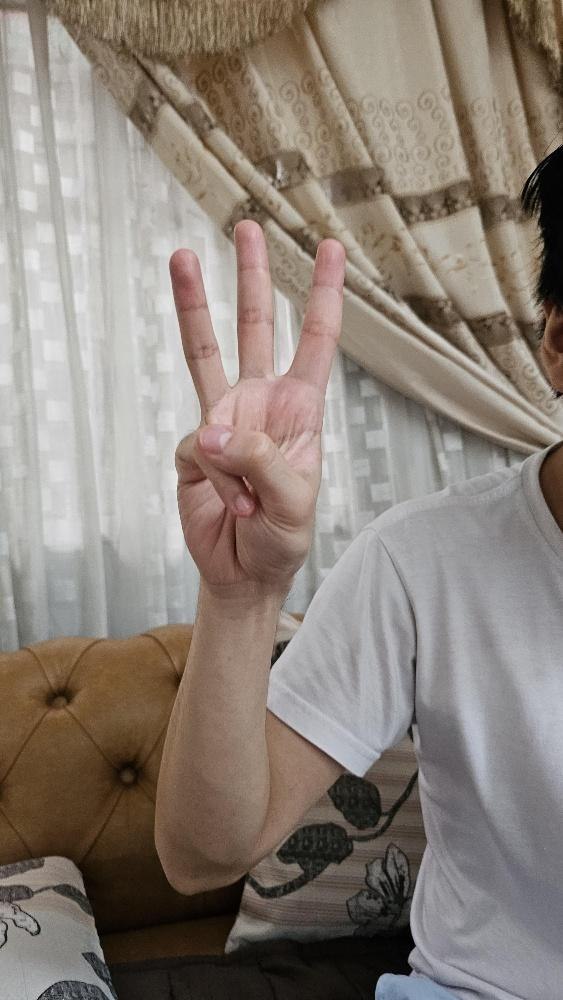w: (165, 216, 348, 595)
